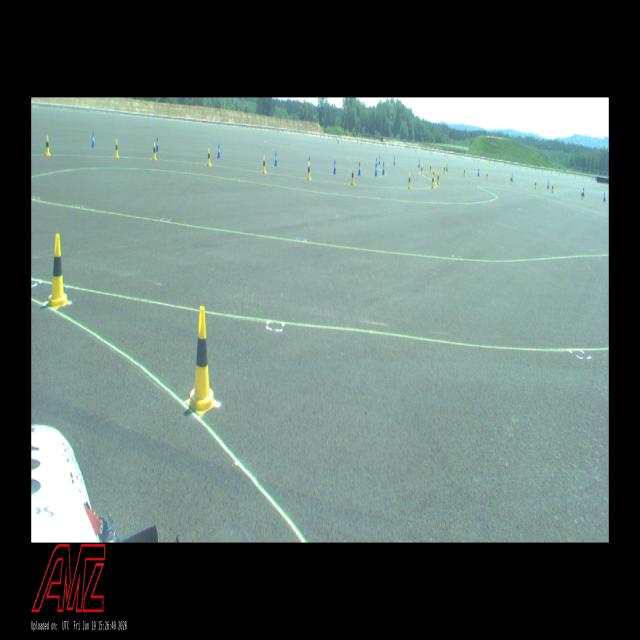blue_cone: (217, 143, 221, 159), (156, 136, 160, 152), (307, 156, 311, 172), (274, 152, 278, 166), (92, 132, 95, 148), (333, 159, 336, 175), (358, 161, 361, 176), (382, 160, 385, 174), (378, 156, 381, 165), (375, 164, 377, 176), (582, 187, 584, 198), (603, 191, 605, 202), (375, 157, 377, 167), (478, 168, 480, 177), (394, 156, 396, 165), (446, 163, 448, 172), (511, 173, 513, 182), (418, 160, 420, 168), (547, 181, 549, 189)
yellow_cone: (185, 306, 218, 415), (46, 234, 69, 309), (45, 135, 51, 156), (306, 162, 312, 180), (114, 139, 119, 158), (152, 142, 157, 161), (350, 167, 354, 186), (207, 148, 211, 166), (262, 156, 266, 173), (407, 173, 411, 189), (431, 174, 435, 188), (429, 163, 432, 173), (437, 172, 439, 185), (421, 163, 423, 175), (432, 168, 434, 180), (581, 190, 583, 200), (552, 183, 554, 193), (443, 165, 445, 174), (486, 171, 488, 180), (534, 180, 536, 188), (464, 168, 466, 176), (510, 176, 512, 184)
